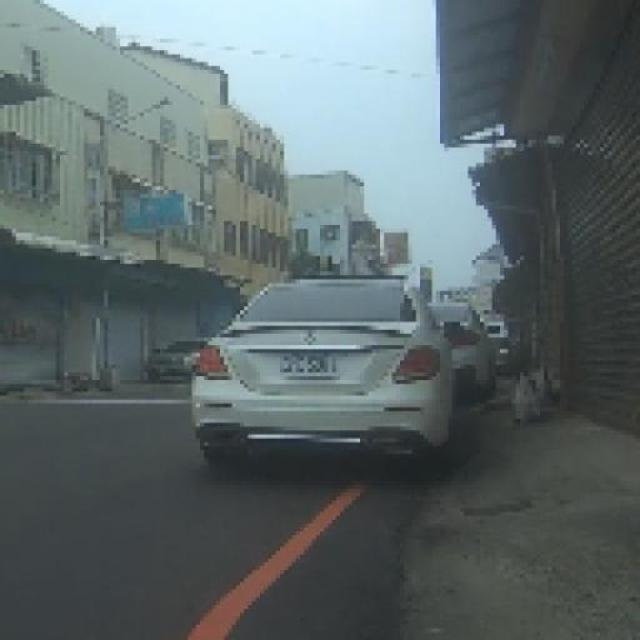illegalparking: (189, 263, 527, 507)
